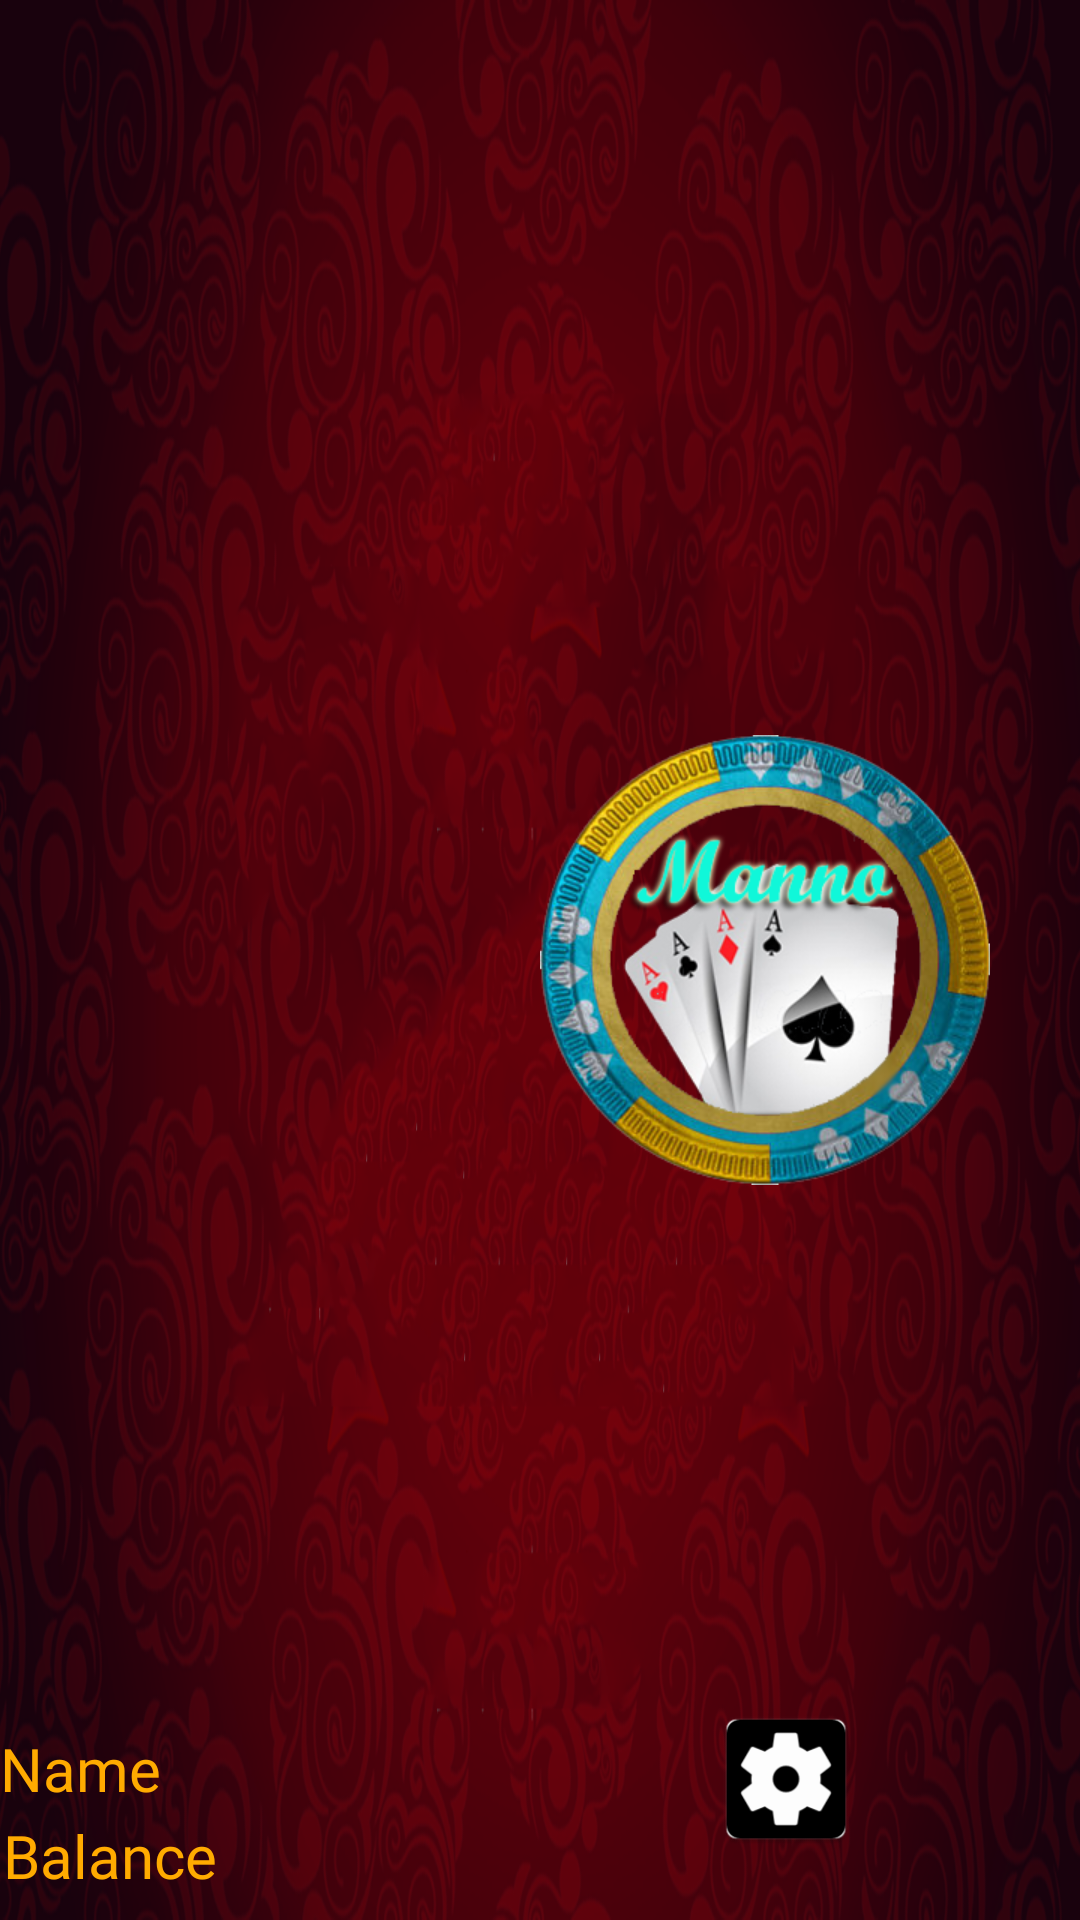

Screen size 1080 x 1920. Icon name, then its box in pixels as (x1, y1, x2, y2):
setting: (726, 1718, 846, 1840)
